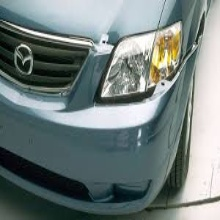no damage: (1, 1, 210, 216)
